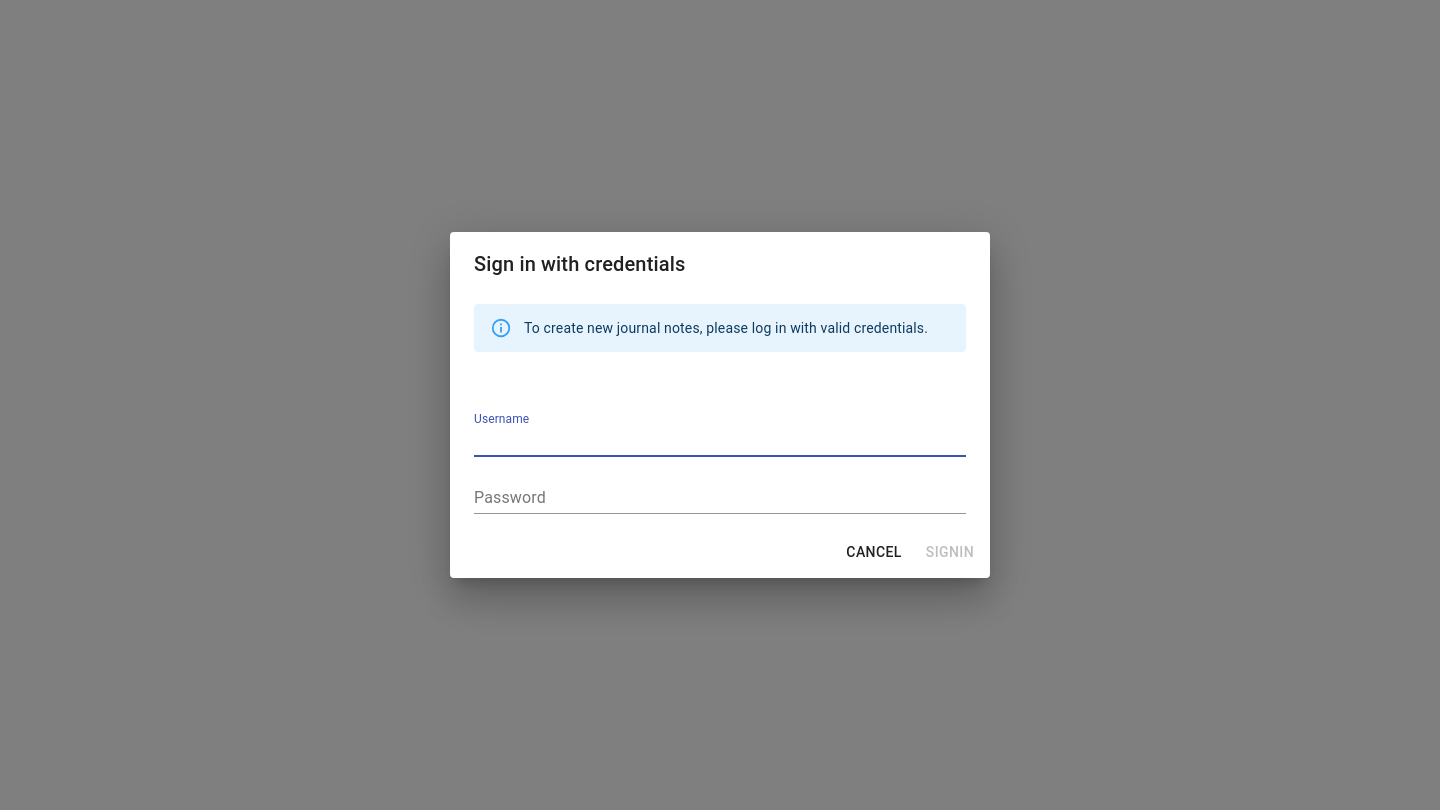
# RequestTokenDialog tests › ## 04 - enter valid username and password and press enter, see success message
This screenshot has width=1440, height=810.
Step 1. Type "dog" into the field labelled "Username" → (720, 442), box [474,428,966,457]
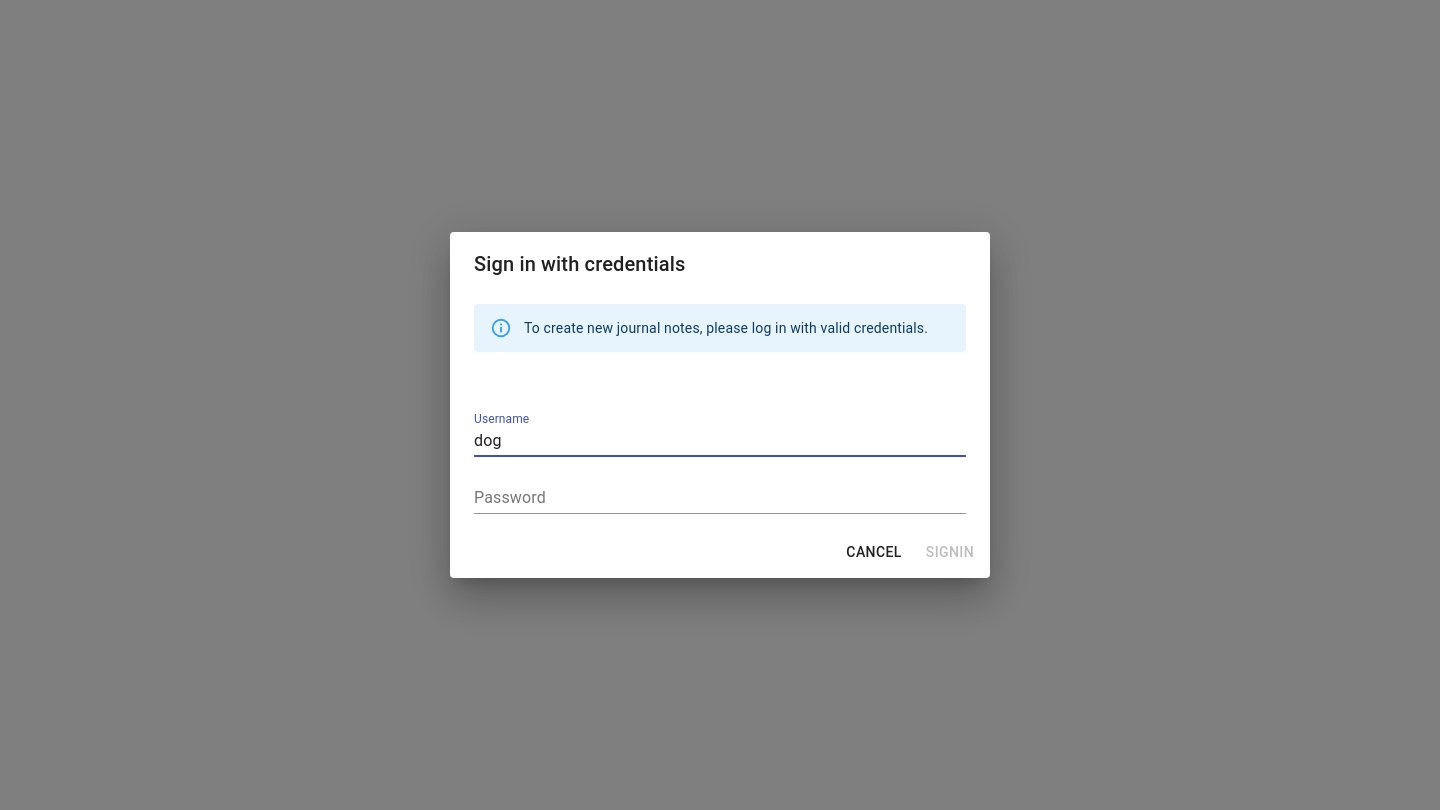
Step 2. Type "good" into the password field labelled "Password" → (720, 499), box [474,485,966,514]
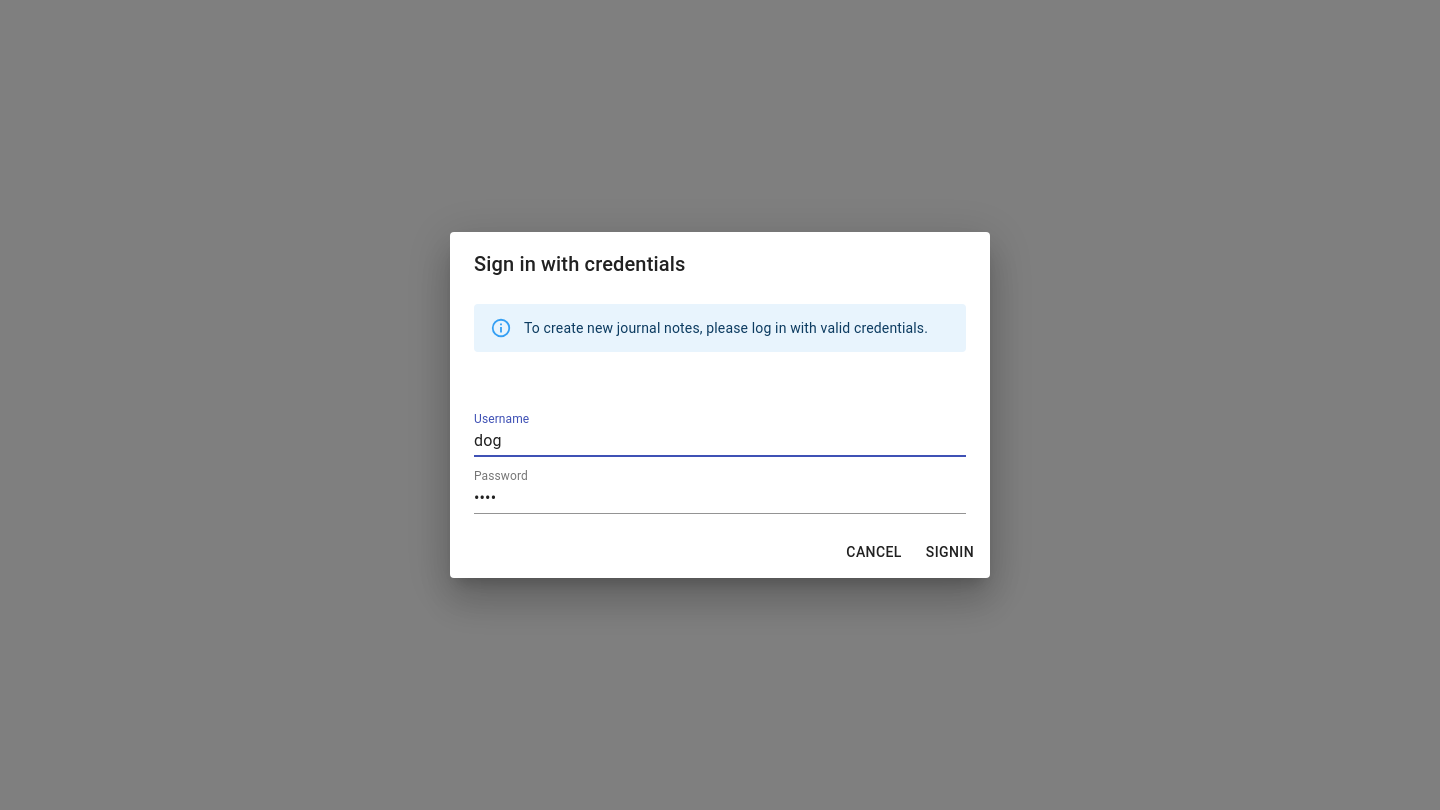
Step 3. Click the button titled "sign in" → (950, 552), box [918,534,982,570]
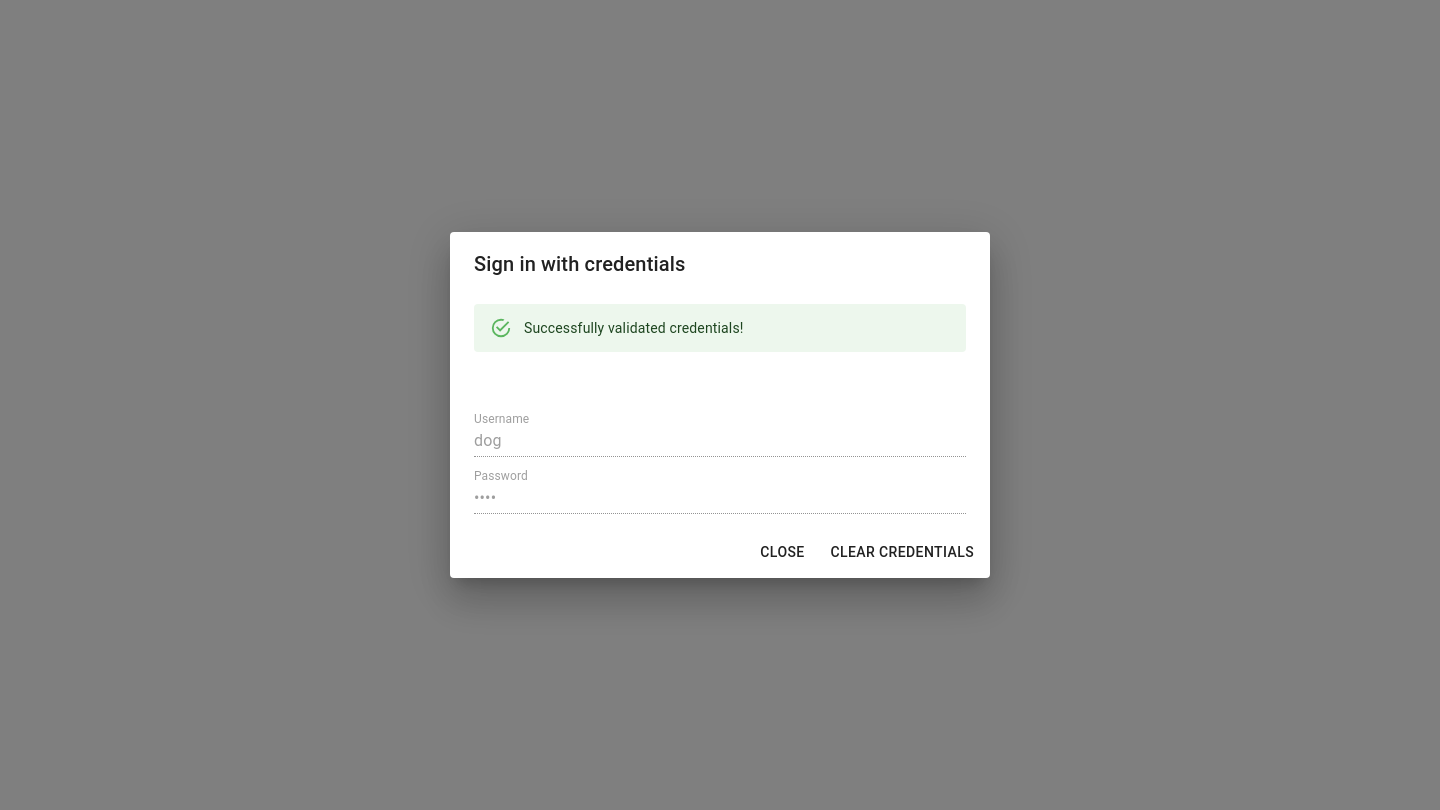
Expected: the text "Successfully validated credentials!" is shown, [524,320,744,336]
